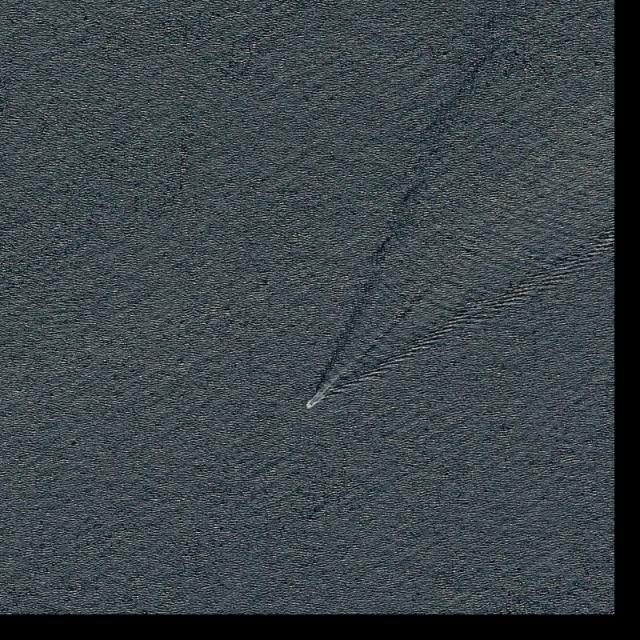ship: (306, 403, 312, 410)
